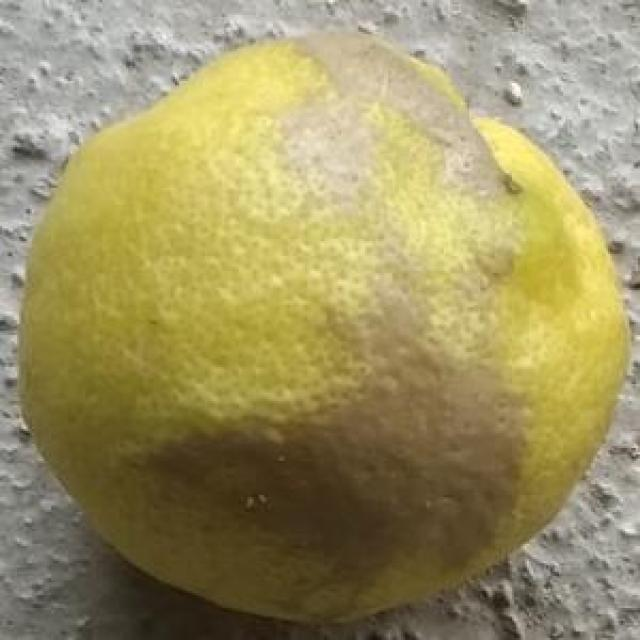lemon: (15, 25, 628, 624)
